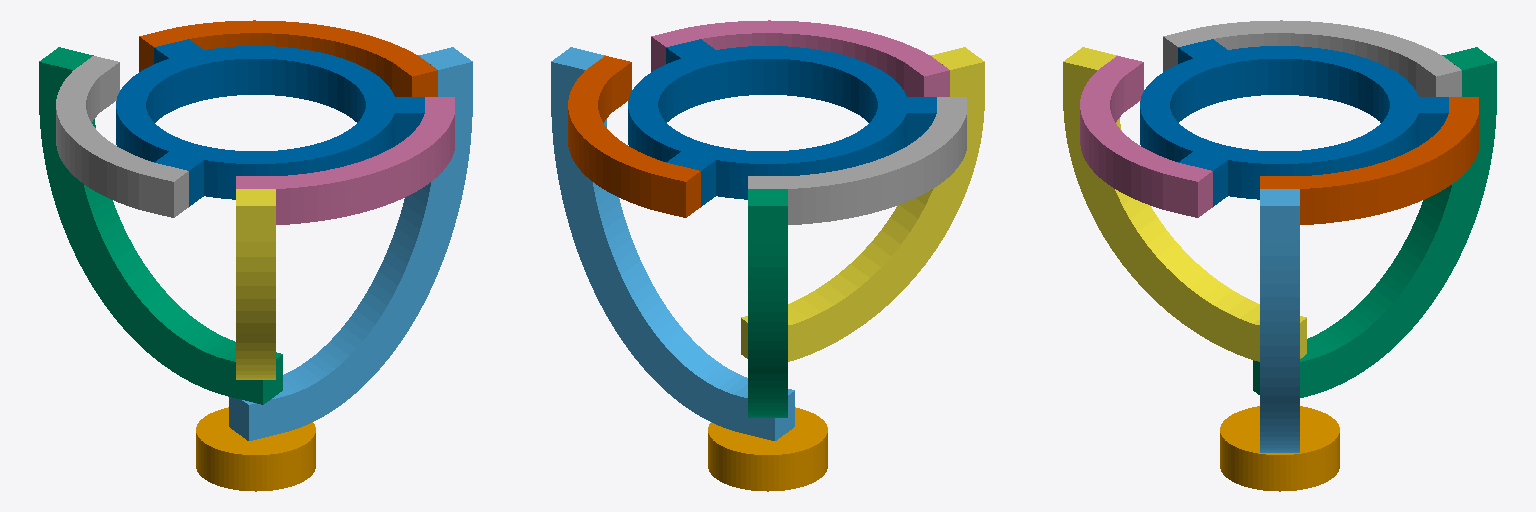
URDF robot description (HomeWork):
<?xml version="1.0" ?>
<robot name="HomeWork">

<mujoco>
 <compiler balanceinertia="true" discardvisual="false" meshdir="meshes" fusestatic="false"/>
</mujoco>



<link name="base_link">
  <inertial>
    <origin xyz="2.947961272379547e-06 1.7020062398140353e-06 -0.08464742961242605" rpy="0 0 0"/>
    <mass value="0.05548838024402977"/>
    <inertia ixx="3.583624557426809e-06" iyy="3.5836245574269714e-06" izz="6.24244277745326e-06" ixy="-1.3944401648859297e-21" iyz="-1.6543612251060553e-24" ixz="1.343341314786117e-21"/>
  </inertial>
  <visual>
    <origin xyz="0 0 0" rpy="0 0 0"/>
    <geometry>
      <mesh filename="meshes/base_link.stl" scale="1 1 1"/>
    </geometry>

  </visual>
  <collision>
    <origin xyz="0 0 0" rpy="0 0 0"/>
    <geometry>
      <mesh filename="meshes/base_link.stl" scale="1 1 1"/>
    </geometry>
  </collision>
</link>

<link name="part3">
  <inertial>
    <origin xyz="0.03689442782896013 -2.9799375905419726e-07 0.03682409612765272" rpy="0 0 0"/>
    <mass value="0.09256125296696066"/>
    <inertia ixx="6.902894655531761e-05" iyy="9.924995874875518e-05" izz="3.1763699742886925e-05" ixy="1.6783494628700932e-21" iyz="7.793695731474627e-21" ixz="-3.992085781158431e-05"/>
  </inertial>
  <visual>
    <origin xyz="-3e-06 -2e-06 0.079647" rpy="0 0 0"/>
    <geometry>
      <mesh filename="meshes/part3.stl" scale="1 1 1"/>
    </geometry>

  </visual>
  <collision>
    <origin xyz="-3e-06 -2e-06 0.079647" rpy="0 0 0"/>
    <geometry>
      <mesh filename="meshes/part3.stl" scale="1 1 1"/>
    </geometry>
  </collision>
</link>

<link name="part2">
  <inertial>
    <origin xyz="-0.018076880437923243 0.031309687233351466 0.03190373790229752" rpy="0 0 0"/>
    <mass value="0.08636998280684359"/>
    <inertia ixx="7.179206374893313e-05" iyy="5.725547073325254e-05" izz="3.0512685744808846e-05" ixy="1.2589058836055037e-05" iyz="-2.870519450048968e-05" ixz="1.657295177199837e-05"/>
  </inertial>
  <visual>
    <origin xyz="-3e-06 -2e-06 0.069605" rpy="0 0 0"/>
    <geometry>
      <mesh filename="meshes/part2.stl" scale="1 1 1"/>
    </geometry>

  </visual>
  <collision>
    <origin xyz="-3e-06 -2e-06 0.069605" rpy="0 0 0"/>
    <geometry>
      <mesh filename="meshes/part2.stl" scale="1 1 1"/>
    </geometry>
  </collision>
</link>

<link name="part1">
  <inertial>
    <origin xyz="-0.017528270578903712 -0.030360063071514478 0.027594606491727118" rpy="0 0 0"/>
    <mass value="0.07934494764666122"/>
    <inertia ixx="5.438066064398757e-05" iyy="4.058429404108474e-05" izz="2.8915148999916914e-05" ixy="-1.194800395803718e-05" iyz="2.3044126763921732e-05" ixz="1.3304532790390087e-05"/>
  </inertial>
  <visual>
    <origin xyz="-3e-06 -2e-06 0.059563" rpy="0 0 0"/>
    <geometry>
      <mesh filename="meshes/part1.stl" scale="1 1 1"/>
    </geometry>

  </visual>
  <collision>
    <origin xyz="-3e-06 -2e-06 0.059563" rpy="0 0 0"/>
    <geometry>
      <mesh filename="meshes/part1.stl" scale="1 1 1"/>
    </geometry>
  </collision>
</link>

<link name="circle">
  <inertial>
    <origin xyz="0.03655 0.02110200000000002 0.0" rpy="0 0 0"/>
    <mass value="0.1328494533797179"/>
    <inertia ixx="7.128828899418336e-05" iyy="7.12882889941812e-05" izz="0.00014036242043203592" ixy="-2.2311041902867143e-20" iyz="0.0" ixz="0.0"/>
  </inertial>
  <visual>
    <origin xyz="0.03655 0.021102 -0.005" rpy="0 0 0"/>
    <geometry>
      <mesh filename="meshes/circle.stl" scale="1 1 1"/>
    </geometry>

  </visual>
  <collision>
    <origin xyz="0.03655 0.021102 -0.005" rpy="0 0 0"/>
    <geometry>
      <mesh filename="meshes/circle.stl" scale="1 1 1"/>
    </geometry>
  </collision>
</link>

<link name="part5">
  <inertial>
    <origin xyz="-0.021200544926956843 0.02854897463941347 9.194034422677078e-17" rpy="0 0 0"/>
    <mass value="0.048719283262776136"/>
    <inertia ixx="1.3017739936066853e-05" iyy="1.3017287864230324e-05" izz="2.5223039745917575e-05" ixy="1.10771849454237e-05" iyz="1.6940658945086007e-21" ixz="2.541098841762901e-21"/>
  </inertial>
  <visual>
    <origin xyz="-0.049754 -2e-06 -0.005" rpy="0 0 0"/>
    <geometry>
      <mesh filename="meshes/part5.stl" scale="1 1 1"/>
    </geometry>

  </visual>
  <collision>
    <origin xyz="-0.049754 -2e-06 -0.005" rpy="0 0 0"/>
    <geometry>
      <mesh filename="meshes/part5.stl" scale="1 1 1"/>
    </geometry>
  </collision>
</link>

<link name="part6">
  <inertial>
    <origin xyz="0.03532365800269549 0.0040846195832517085 -2.5153490401663703e-17" rpy="0 0 0"/>
    <mass value="0.0487166111129637"/>
    <inertia ixx="3.423382421803979e-06" iyy="2.2608901861225888e-05" izz="2.5220340764480455e-05" ixy="-5.537138694725243e-06" iyz="1.6940658945086007e-21" ixz="0.0"/>
  </inertial>
  <visual>
    <origin xyz="0.024873 0.043084 -0.005" rpy="0 0 0"/>
    <geometry>
      <mesh filename="meshes/part6.stl" scale="1 1 1"/>
    </geometry>

  </visual>
  <collision>
    <origin xyz="0.024873 0.043084 -0.005" rpy="0 0 0"/>
    <geometry>
      <mesh filename="meshes/part6.stl" scale="1 1 1"/>
    </geometry>
  </collision>
</link>

<link name="part4">
  <inertial>
    <origin xyz="-0.014123835212836479 -0.032632739089515514 -1.734723475976807e-18" rpy="0 0 0"/>
    <mass value="0.04871661111298049"/>
    <inertia ixx="2.2607824775283357e-05" iyy="3.4244595077509004e-06" izz="2.5220340764484548e-05" ixy="-5.539004262305704e-06" iyz="-1.6940658945086007e-21" ixz="3.3881317890172014e-21"/>
  </inertial>
  <visual>
    <origin xyz="0.024873 -0.043087 -0.005" rpy="0 0 0"/>
    <geometry>
      <mesh filename="meshes/part4.stl" scale="1 1 1"/>
    </geometry>

  </visual>
  <collision>
    <origin xyz="0.024873 -0.043087 -0.005" rpy="0 0 0"/>
    <geometry>
      <mesh filename="meshes/part4.stl" scale="1 1 1"/>
    </geometry>
  </collision>
</link>

<joint name="Revolute_17" type="continuous">
  <origin xyz="3e-06 2e-06 -0.079647" rpy="0 0 0"/>
  <parent link="base_link"/>
  <child link="part3"/>
  <axis xyz="0.0 0.0 1.0"/>
</joint>
<transmission name="Revolute_17_tran">
  <type>transmission_interface/SimpleTransmission</type>
  <joint name="Revolute_17">
    <hardwareInterface>PositionJointInterface</hardwareInterface>
  </joint>
  <actuator name="Revolute_17_actr">
    <hardwareInterface>PositionJointInterface</hardwareInterface>
    <mechanicalReduction>1</mechanicalReduction>
  </actuator>
</transmission>

<joint name="Revolute_18" type="continuous">
  <origin xyz="0.0 0.0 0.010042" rpy="0 0 0"/>
  <parent link="part3"/>
  <child link="part2"/>
  <axis xyz="0.0 0.0 1.0"/>
</joint>
<transmission name="Revolute_18_tran">
  <type>transmission_interface/SimpleTransmission</type>
  <joint name="Revolute_18">
    <hardwareInterface>PositionJointInterface</hardwareInterface>
  </joint>
  <actuator name="Revolute_18_actr">
    <hardwareInterface>PositionJointInterface</hardwareInterface>
    <mechanicalReduction>1</mechanicalReduction>
  </actuator>
</transmission>

<joint name="Revolute_19" type="continuous">
  <origin xyz="0.0 0.0 0.010042" rpy="0 0 0"/>
  <parent link="part2"/>
  <child link="part1"/>
  <axis xyz="-0.0 0.0 1.0"/>
</joint>
<transmission name="Revolute_19_tran">
  <type>transmission_interface/SimpleTransmission</type>
  <joint name="Revolute_19">
    <hardwareInterface>PositionJointInterface</hardwareInterface>
  </joint>
  <actuator name="Revolute_19_actr">
    <hardwareInterface>PositionJointInterface</hardwareInterface>
    <mechanicalReduction>1</mechanicalReduction>
  </actuator>
</transmission>

<joint name="Revolute_20" type="continuous">
  <origin xyz="-0.011677 -0.064189 0.0" rpy="0 0 0"/>
  <parent link="part4"/>
  <child link="circle"/>
  <axis xyz="0.866025 0.5 0.0"/>
</joint>
<transmission name="Revolute_20_tran">
  <type>transmission_interface/SimpleTransmission</type>
  <joint name="Revolute_20">
    <hardwareInterface>PositionJointInterface</hardwareInterface>
  </joint>
  <actuator name="Revolute_20_actr">
    <hardwareInterface>PositionJointInterface</hardwareInterface>
    <mechanicalReduction>1</mechanicalReduction>
  </actuator>
</transmission>

<joint name="Revolute_21" type="continuous">
  <origin xyz="0.049751 0.0 0.084647" rpy="0 0 0"/>
  <parent link="part3"/>
  <child link="part5"/>
  <axis xyz="-1.0 0.0 0.0"/>
</joint>
<transmission name="Revolute_21_tran">
  <type>transmission_interface/SimpleTransmission</type>
  <joint name="Revolute_21">
    <hardwareInterface>PositionJointInterface</hardwareInterface>
  </joint>
  <actuator name="Revolute_21_actr">
    <hardwareInterface>PositionJointInterface</hardwareInterface>
    <mechanicalReduction>1</mechanicalReduction>
  </actuator>
</transmission>

<joint name="Revolute_22" type="continuous">
  <origin xyz="-0.024876 -0.043086 0.064563" rpy="0 0 0"/>
  <parent link="part1"/>
  <child link="part6"/>
  <axis xyz="0.5 0.866025 0.0"/>
</joint>
<transmission name="Revolute_22_tran">
  <type>transmission_interface/SimpleTransmission</type>
  <joint name="Revolute_22">
    <hardwareInterface>PositionJointInterface</hardwareInterface>
  </joint>
  <actuator name="Revolute_22_actr">
    <hardwareInterface>PositionJointInterface</hardwareInterface>
    <mechanicalReduction>1</mechanicalReduction>
  </actuator>
</transmission>

<joint name="Revolute_23" type="continuous">
  <origin xyz="-0.024876 0.043085 0.074605" rpy="0 0 0"/>
  <parent link="part2"/>
  <child link="part4"/>
  <axis xyz="0.5 -0.866025 0.0"/>
</joint>
<transmission name="Revolute_23_tran">
  <type>transmission_interface/SimpleTransmission</type>
  <joint name="Revolute_23">
    <hardwareInterface>PositionJointInterface</hardwareInterface>
  </joint>
  <actuator name="Revolute_23_actr">
    <hardwareInterface>PositionJointInterface</hardwareInterface>
    <mechanicalReduction>1</mechanicalReduction>
  </actuator>
</transmission>

</robot>

--- Render facts (derived) ---
Views: 3 orthographic renders of the robot side by side, from view 1: azimuth 30°, elevation 25°; view 2: azimuth 150°, elevation 25°; view 3: azimuth 270°, elevation 25°.
Robot: HomeWork — 8 links, 7 joints (7 continuous); root link base_link; default pose: every joint at zero.
Links seen in each view (by area): view 1: circle, part3, part2, part6, part4, part5, part1, base_link; view 2: circle, part3, part1, part4, part5, part2, part6, base_link; view 3: circle, part2, part1, part5, part3, part6, part4, base_link.
Link boxes in pixels (bbox=[...]): circle: bbox=[116, 39, 424, 206]; part3: bbox=[229, 47, 472, 440]; part2: bbox=[39, 47, 282, 404]; part6: bbox=[236, 97, 454, 224]; part4: bbox=[56, 56, 188, 217]; part5: bbox=[139, 20, 437, 96]; part1: bbox=[236, 189, 275, 379]; base_link: bbox=[196, 407, 315, 491]; circle: bbox=[628, 39, 936, 206]; part3: bbox=[551, 47, 794, 440]; part1: bbox=[741, 47, 984, 361]; part4: bbox=[748, 97, 966, 224]; part5: bbox=[568, 56, 700, 217]; part2: bbox=[748, 189, 787, 417]; part6: bbox=[651, 20, 949, 96]; base_link: bbox=[708, 407, 827, 491]; circle: bbox=[1140, 39, 1448, 206]; part2: bbox=[1253, 47, 1496, 397]; part1: bbox=[1063, 47, 1306, 361]; part5: bbox=[1260, 97, 1478, 224]; part3: bbox=[1260, 189, 1299, 452]; part6: bbox=[1080, 56, 1212, 217]; part4: bbox=[1163, 20, 1461, 96]; base_link: bbox=[1220, 406, 1339, 491].
Bounding box of the posed robot: 0.1097 × 0.1085 × 0.0997 m (x, y, z).
Meshes: 8 distinct files referenced, 8 mesh visuals loaded (8 binary STL).